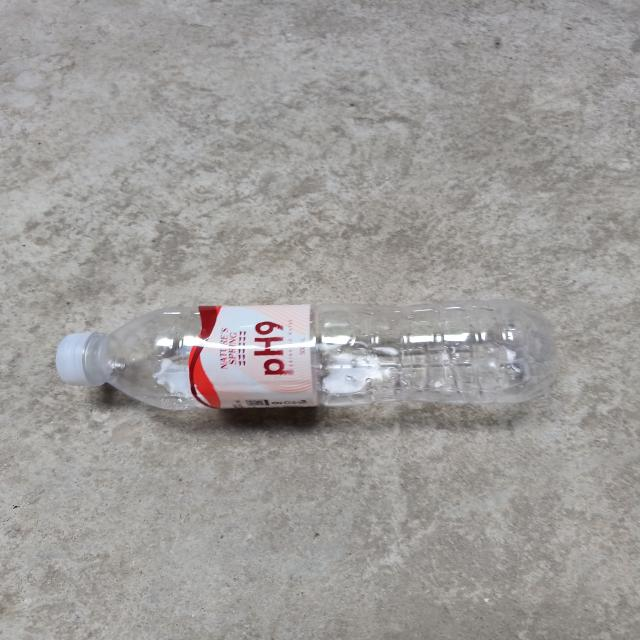Bottle: (56, 299, 556, 410)
